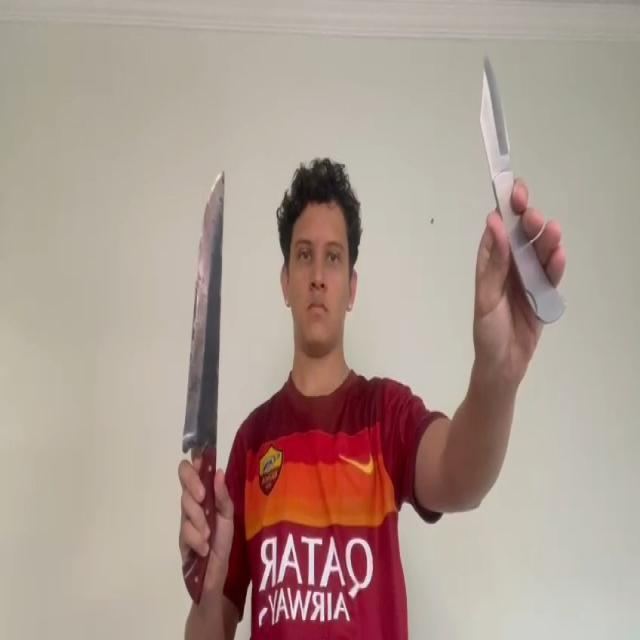knife: (182, 170, 226, 452), (478, 53, 512, 166)
